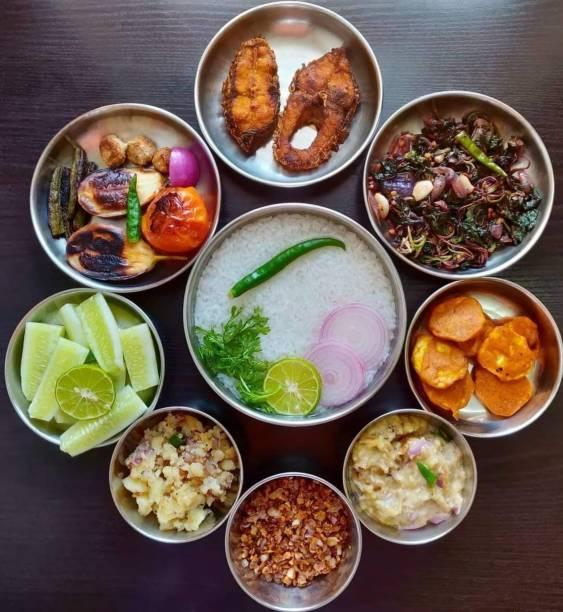Braised Crucian Carp: (183, 204, 403, 425), (362, 90, 551, 276), (30, 101, 219, 287), (195, 2, 380, 188), (3, 287, 163, 452), (402, 277, 561, 439), (223, 472, 361, 611), (341, 411, 474, 547), (109, 406, 239, 544)
